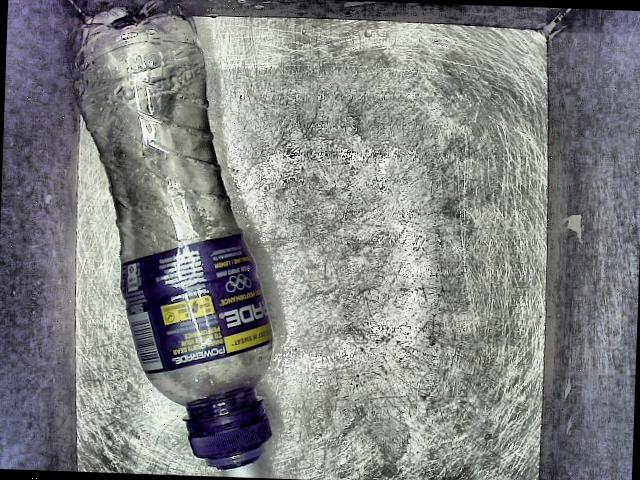Bottles: (50, 0, 299, 479)
